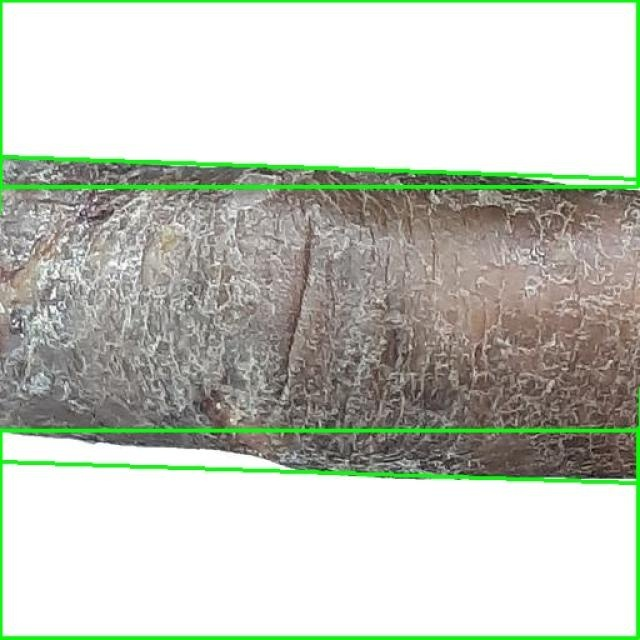Eczema: (0, 157, 640, 483), (0, 431, 639, 639), (0, 0, 639, 188)
